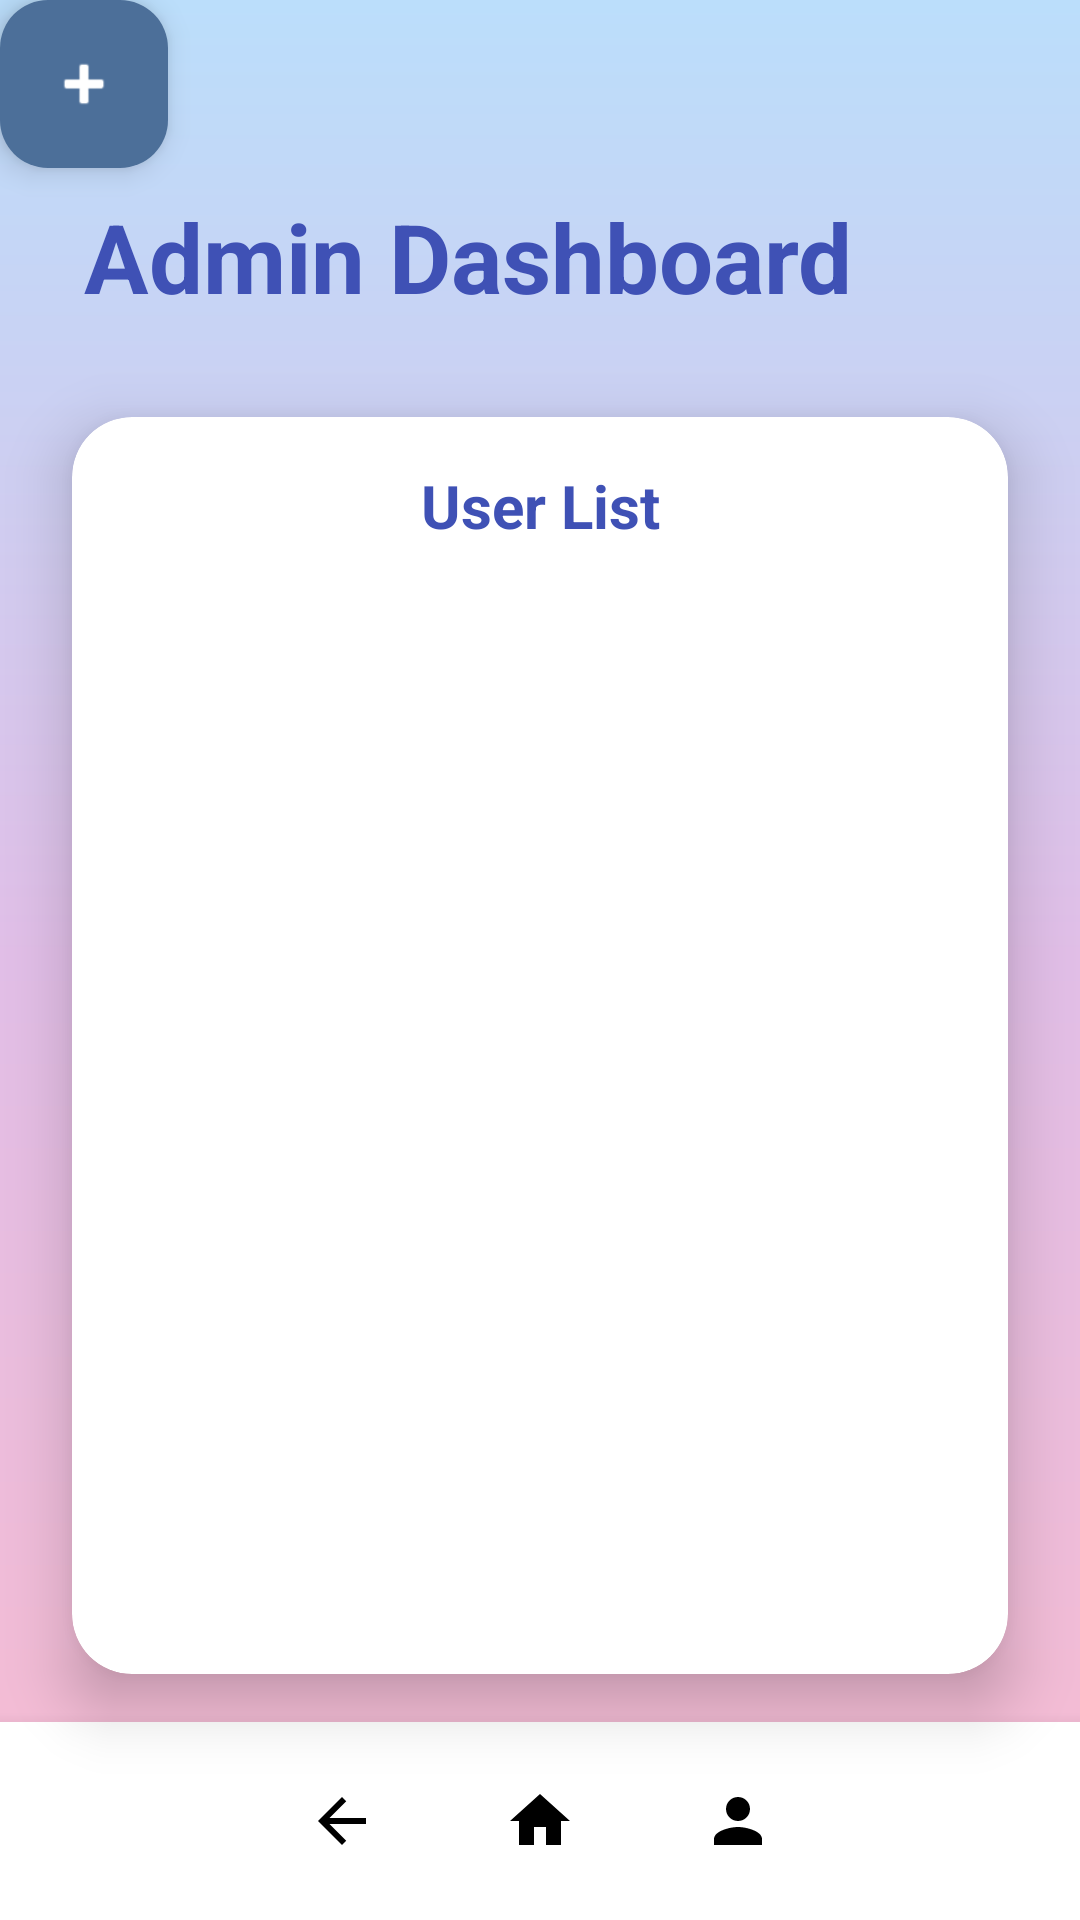

Screen size 1080×1920. Icon name, then its box in pixels as [x1=x1, y1=y1, x2=x2, y2=y2]:
Add New User: [x1=0, y1=0, x2=168, y2=168]
Back: [x1=318, y1=1797, x2=366, y2=1845]
Home: [x1=510, y1=1794, x2=570, y2=1845]
Profile: [x1=714, y1=1797, x2=762, y2=1845]
